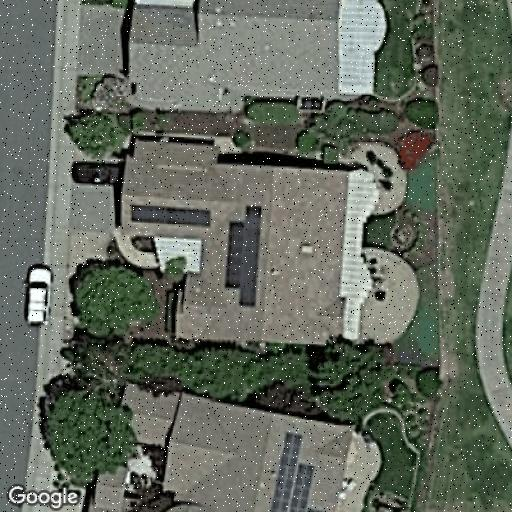solar-panel: (221, 202, 264, 310), (268, 430, 319, 512), (128, 201, 214, 229)
